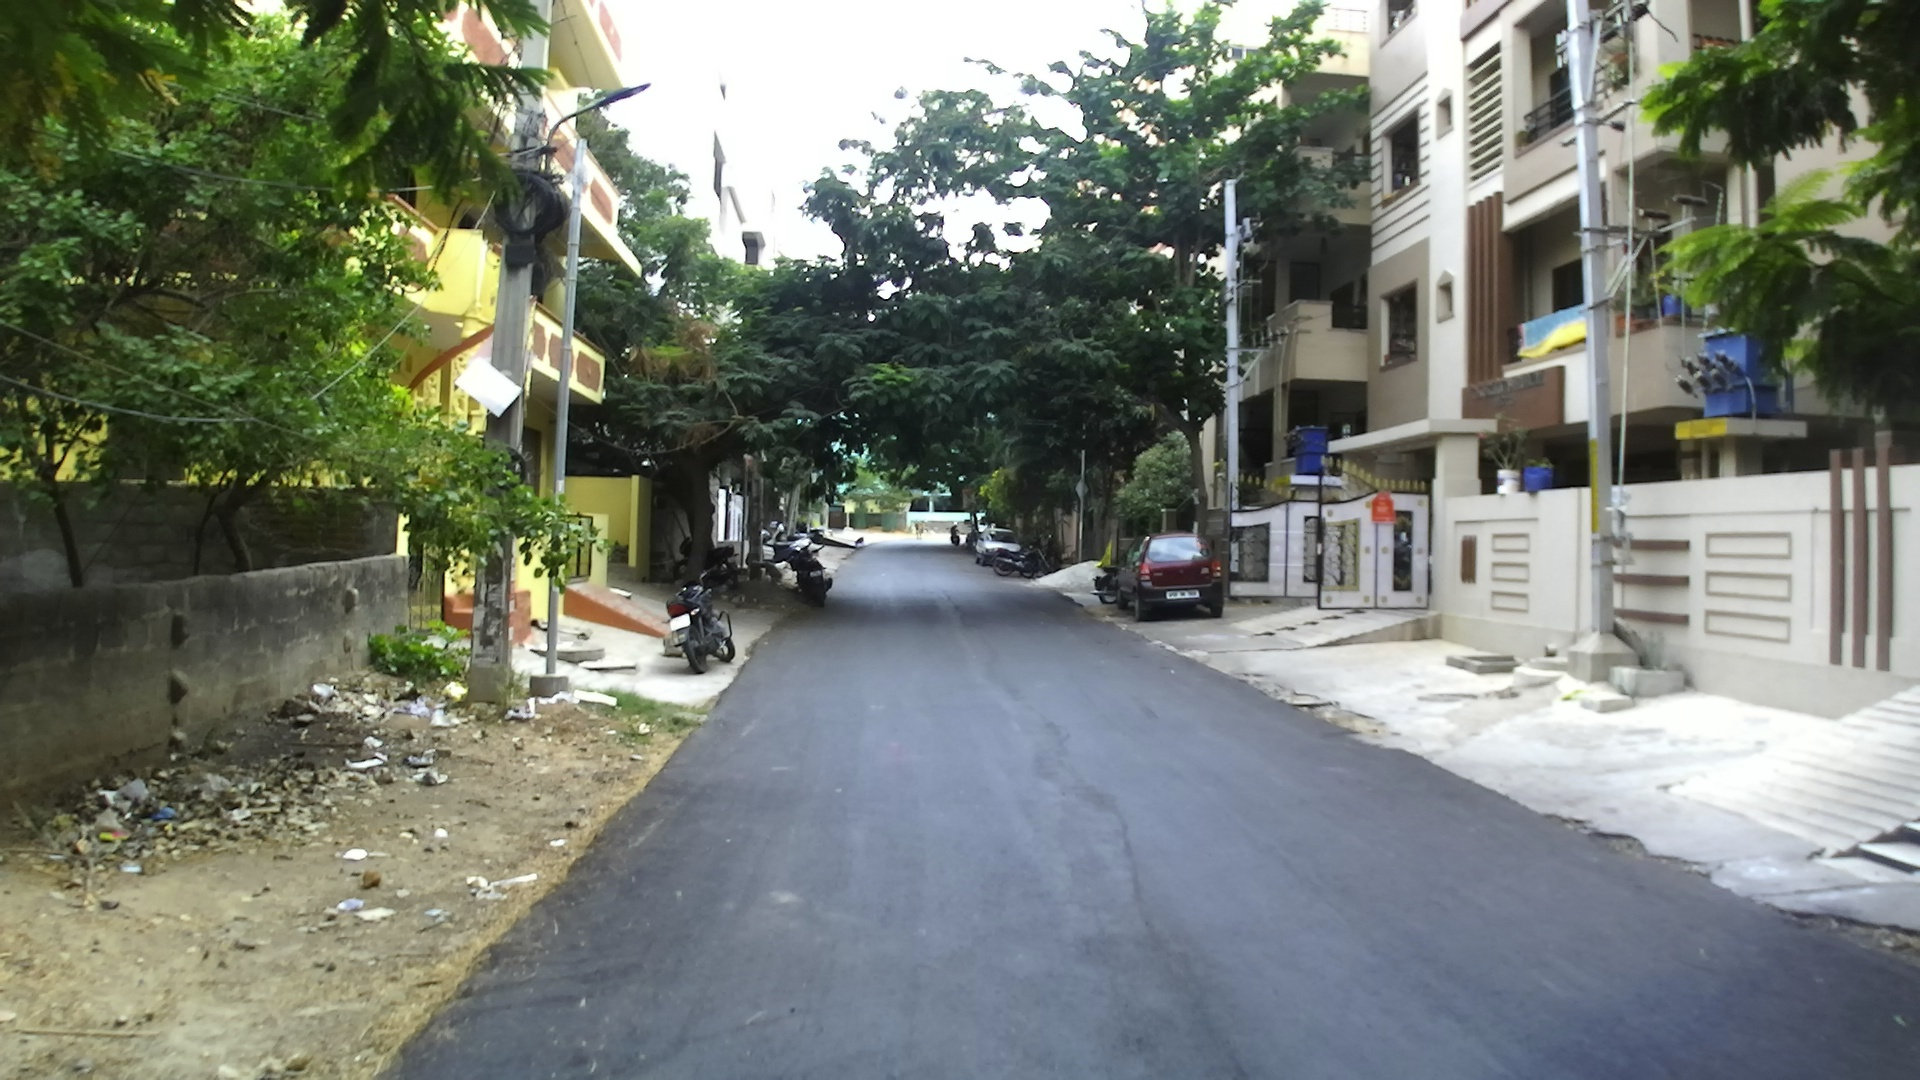vehicle: (1127, 533, 1228, 618), (963, 520, 1026, 568), (975, 534, 1029, 571)
